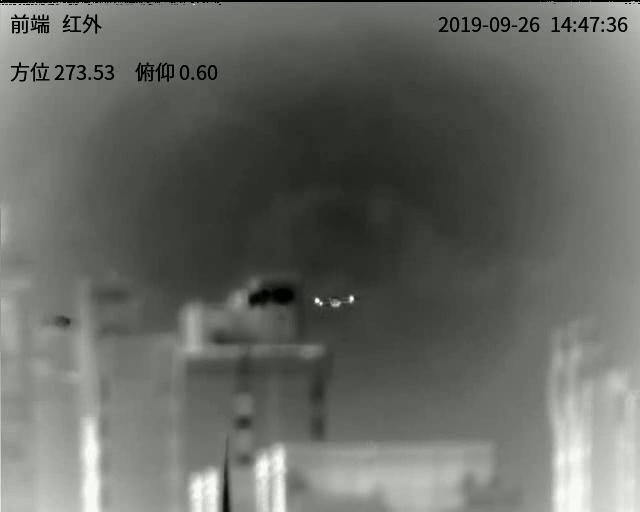DRONE: (313, 293, 356, 311)
